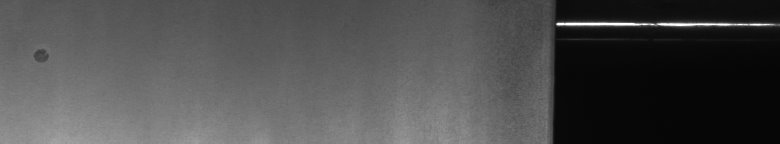fi: (30, 44, 51, 68)
